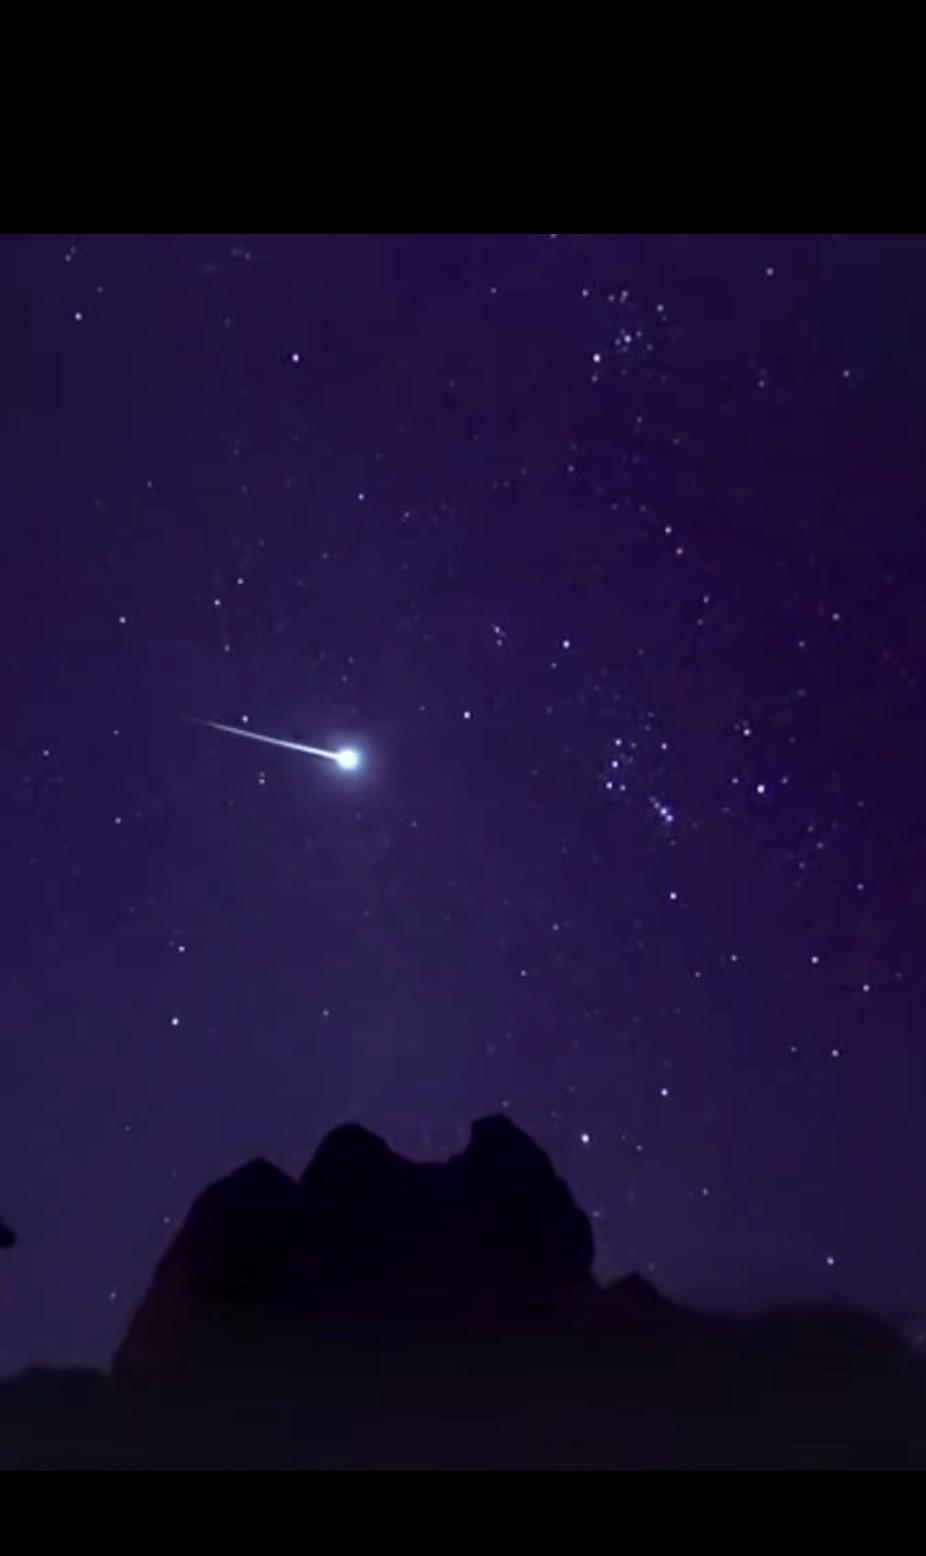meteorite: (193, 706, 385, 774)
